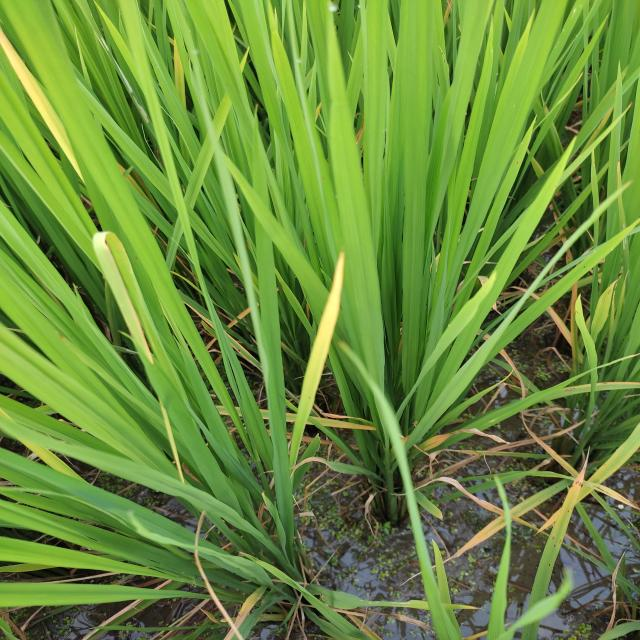HealthyLeaf: (178, 0, 627, 423), (2, 82, 229, 532)
